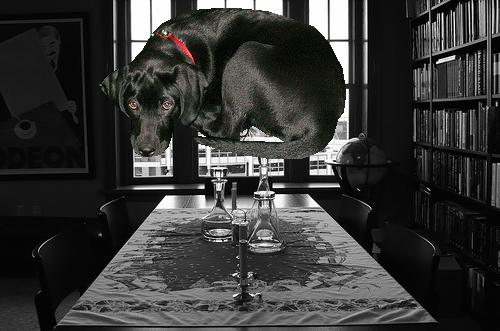tampered: (100, 9, 346, 159)
